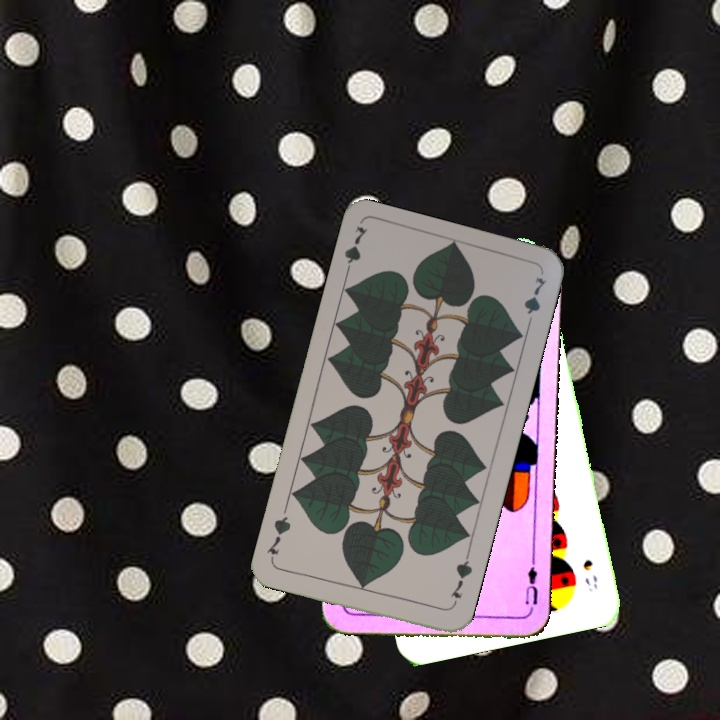EU: (521, 556, 540, 607)
G7: (340, 222, 370, 281), (446, 552, 475, 610)
S8: (578, 555, 600, 594)
